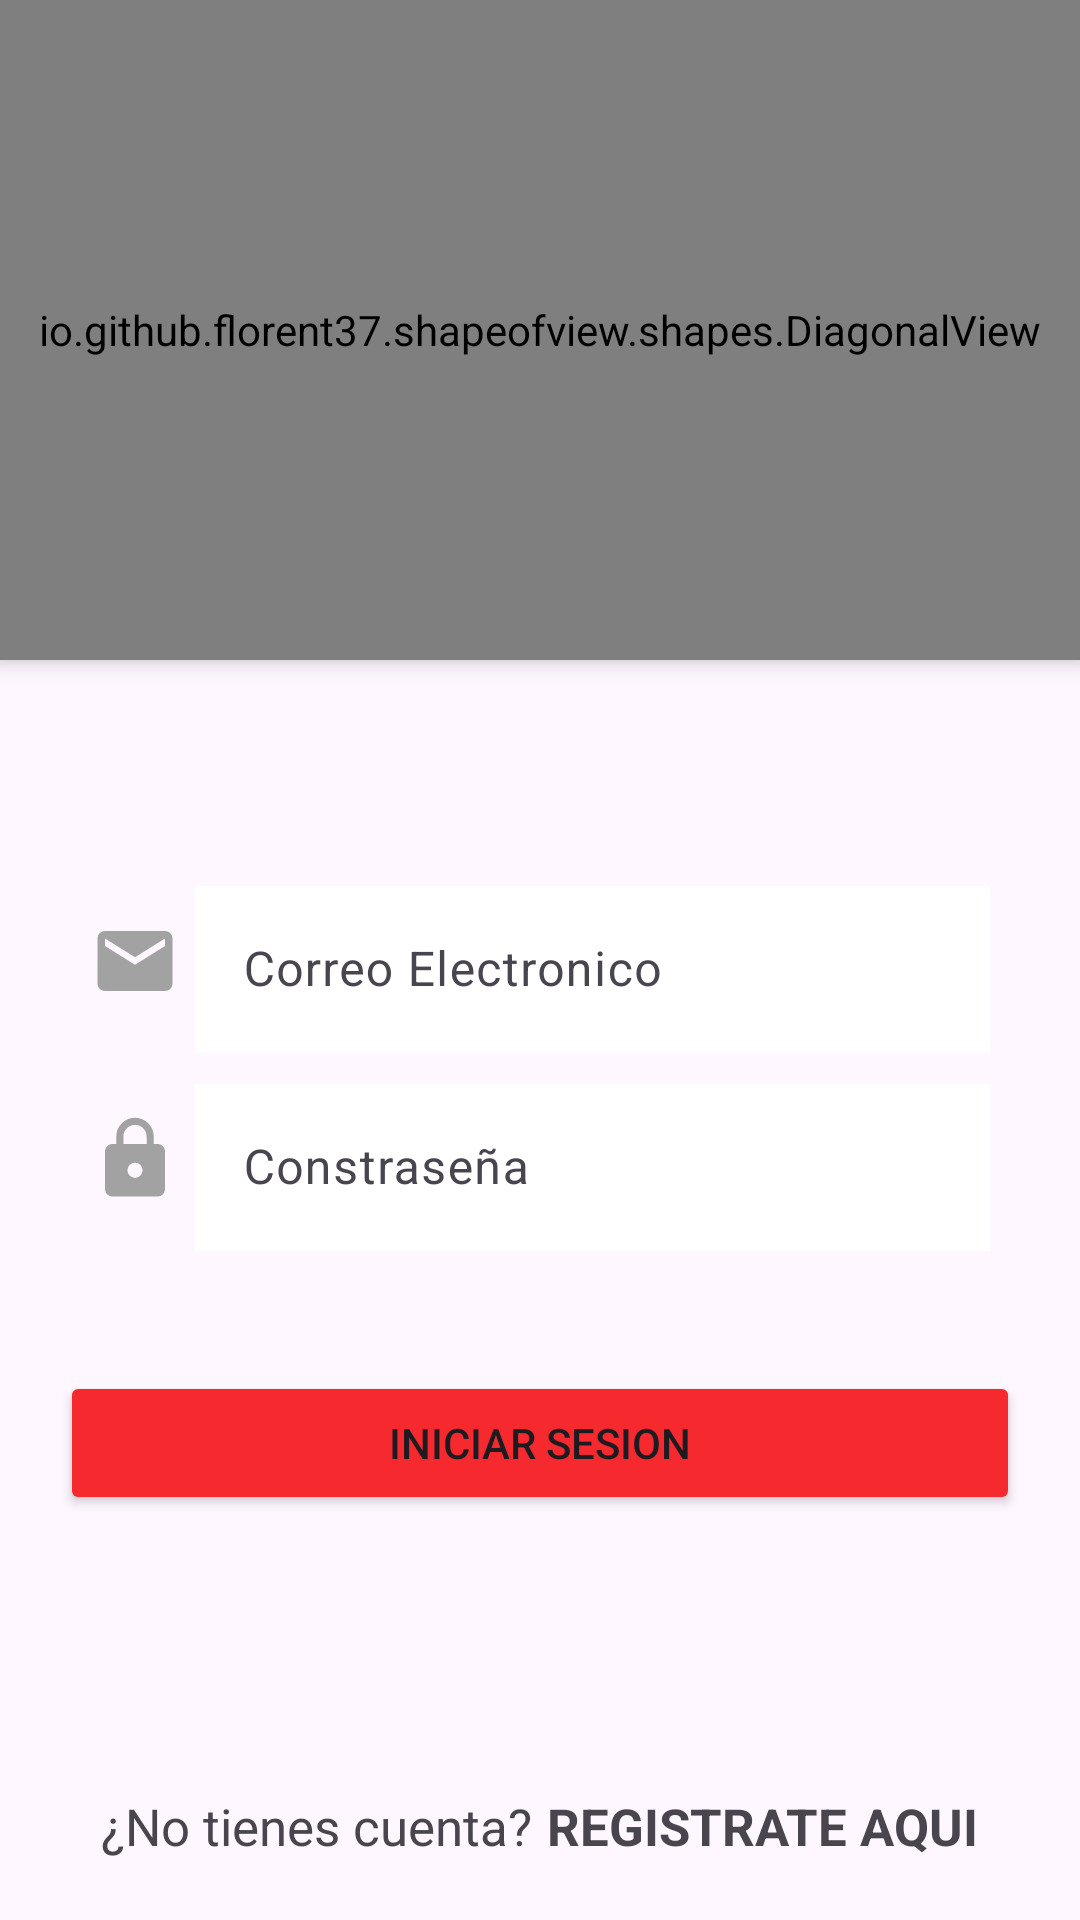

Point at icon controls on the screen. Image size 1080px×1920px, points as (x=x, y=y).
email: (x=135, y=961)
password: (x=135, y=1157)
